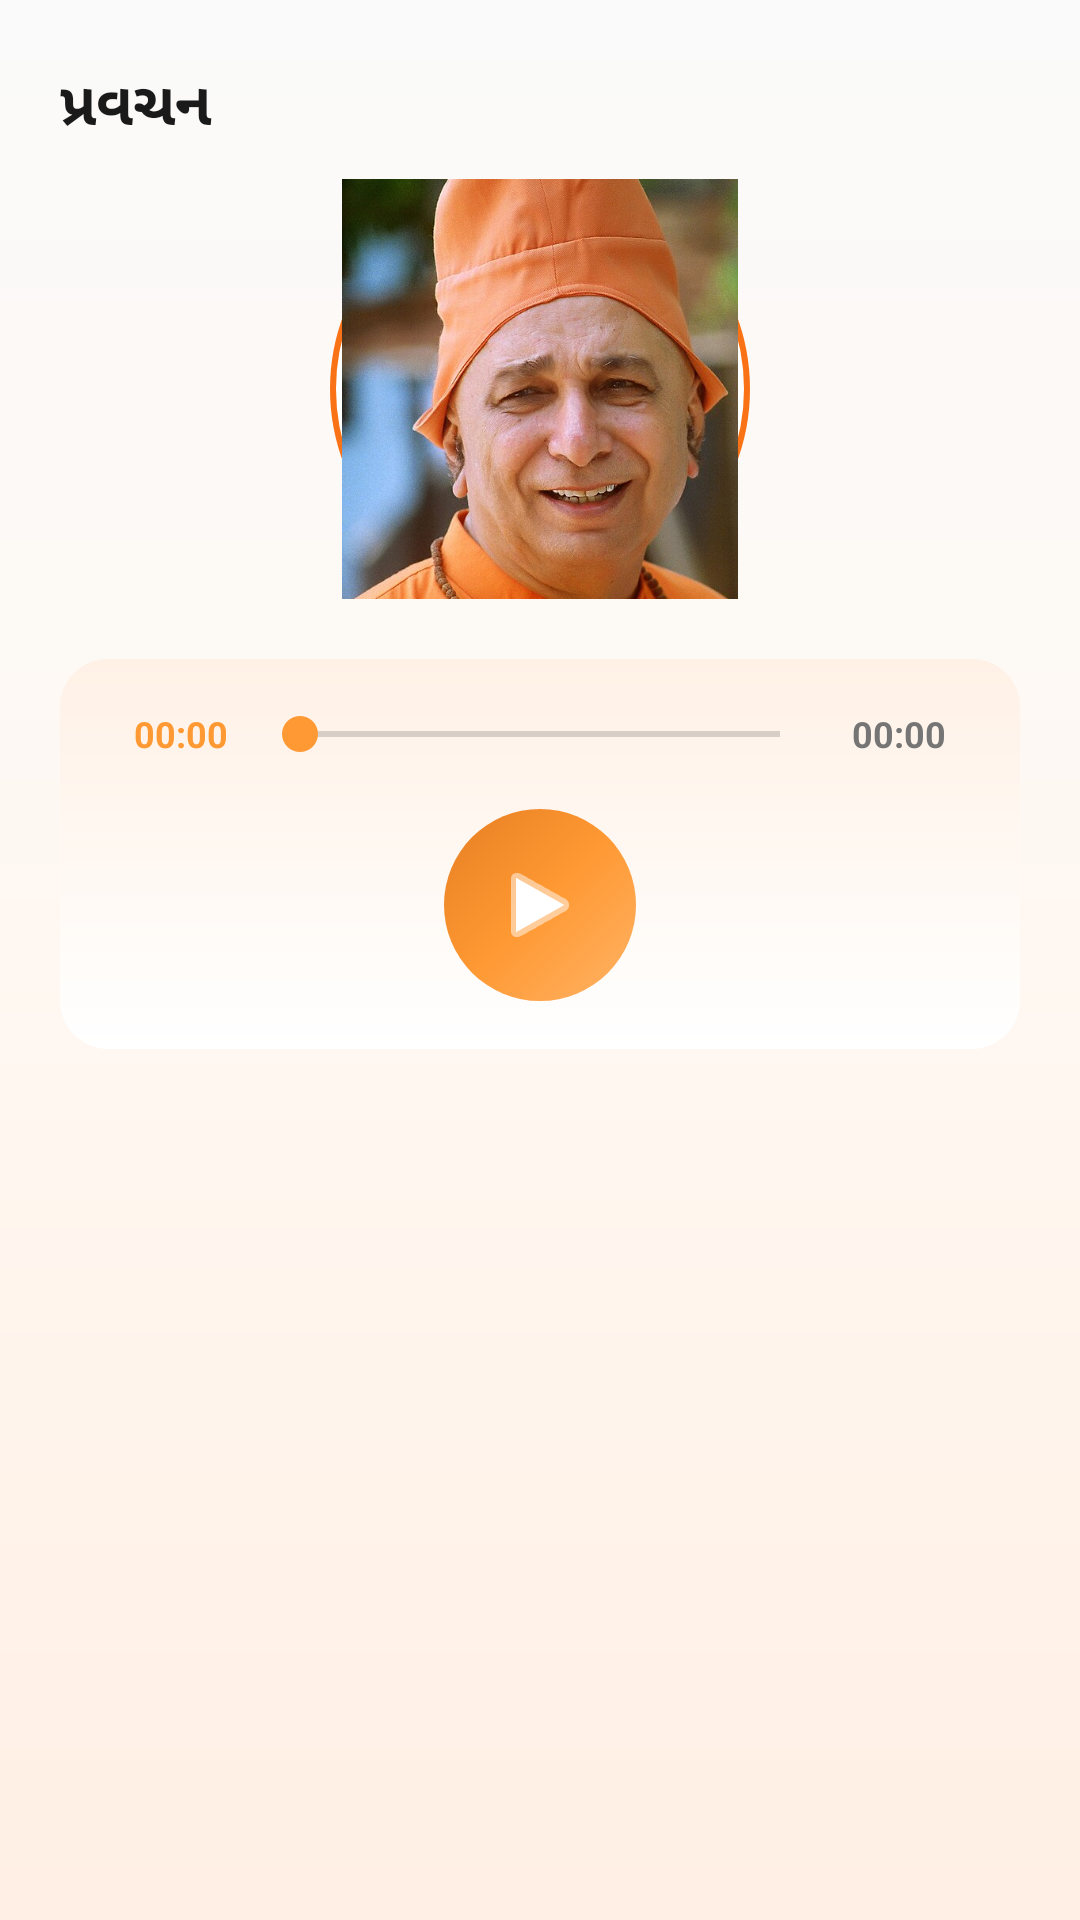

Where to tap for icons on this 1080px x 1920px app screen, as [x,y]:
ચાલુ કરો: [540,905]
